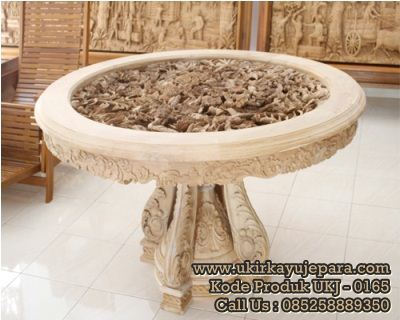Carving Table: (42, 54, 363, 278)
